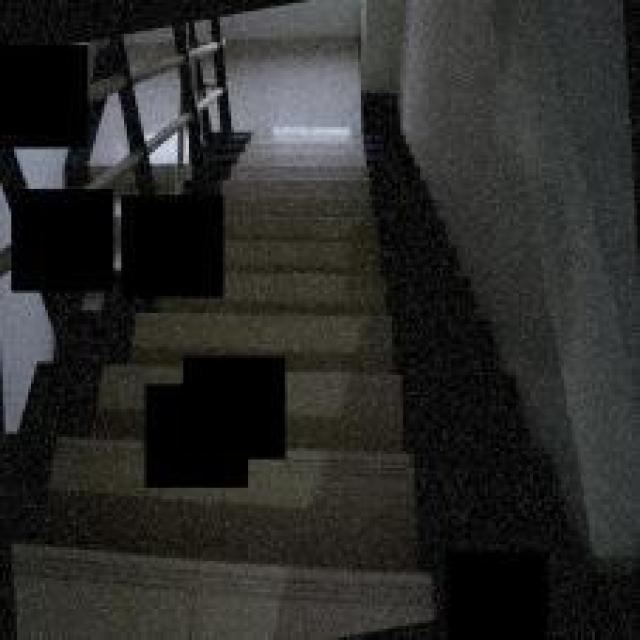downstair: (244, 120, 419, 354)
